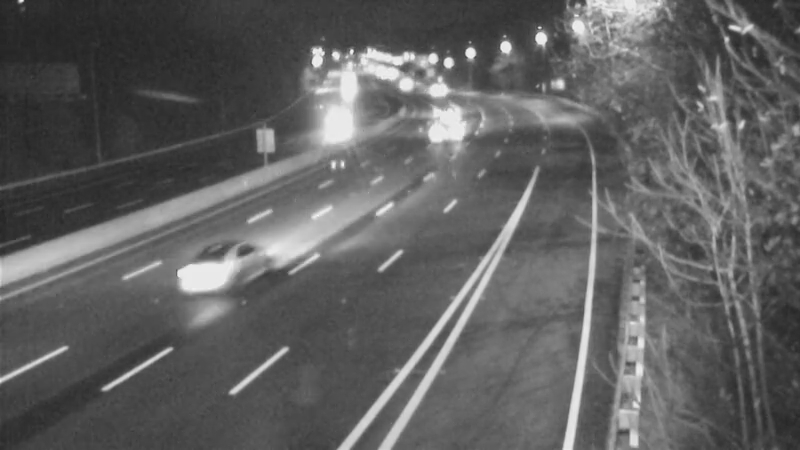vehicle: (183, 224, 263, 304), (373, 56, 423, 106), (414, 66, 464, 116), (419, 89, 469, 139), (425, 104, 475, 154), (305, 109, 355, 159), (325, 63, 375, 113)
